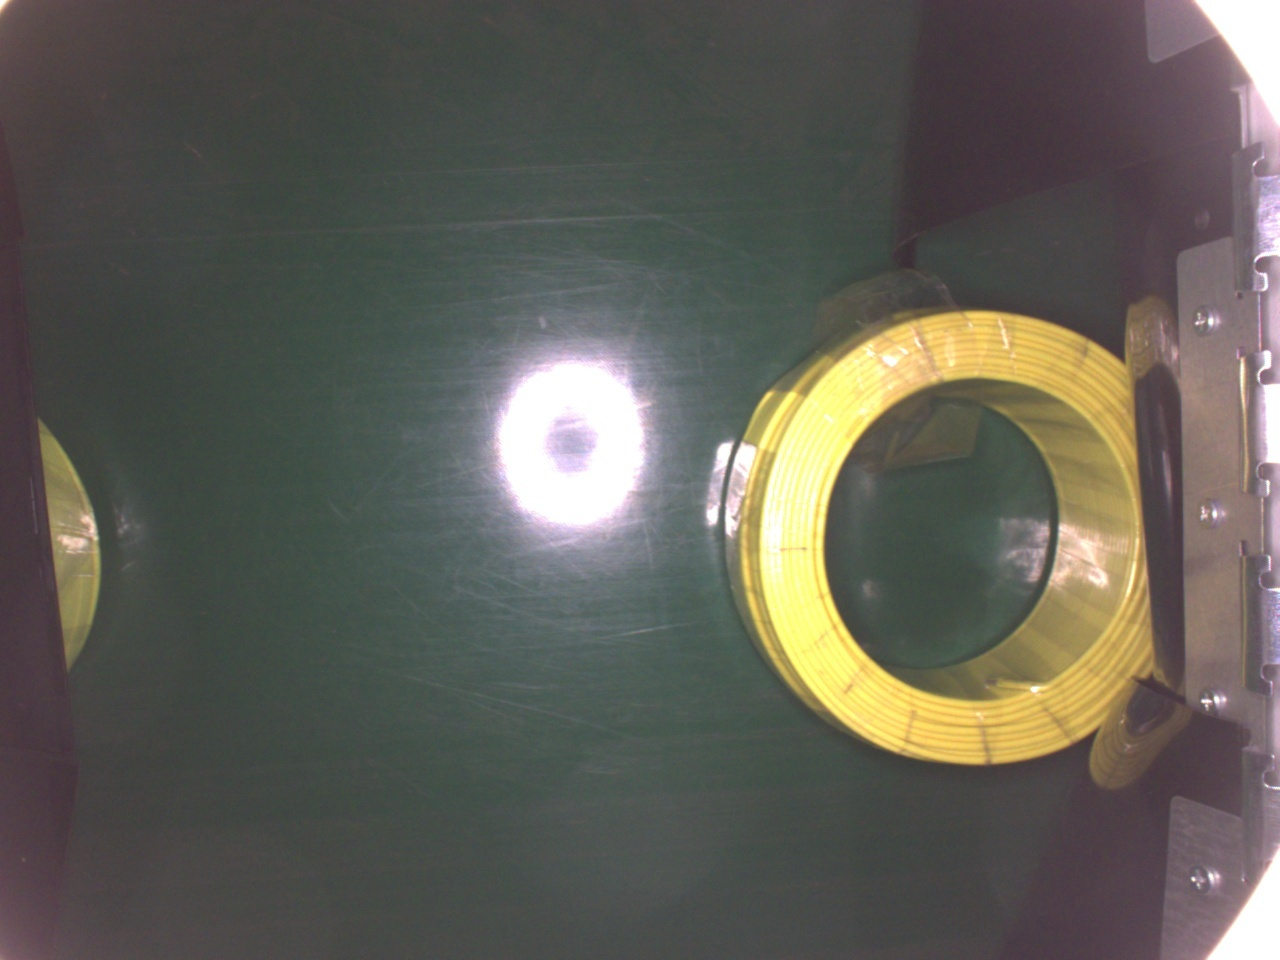yellow: (718, 304, 1155, 768)
